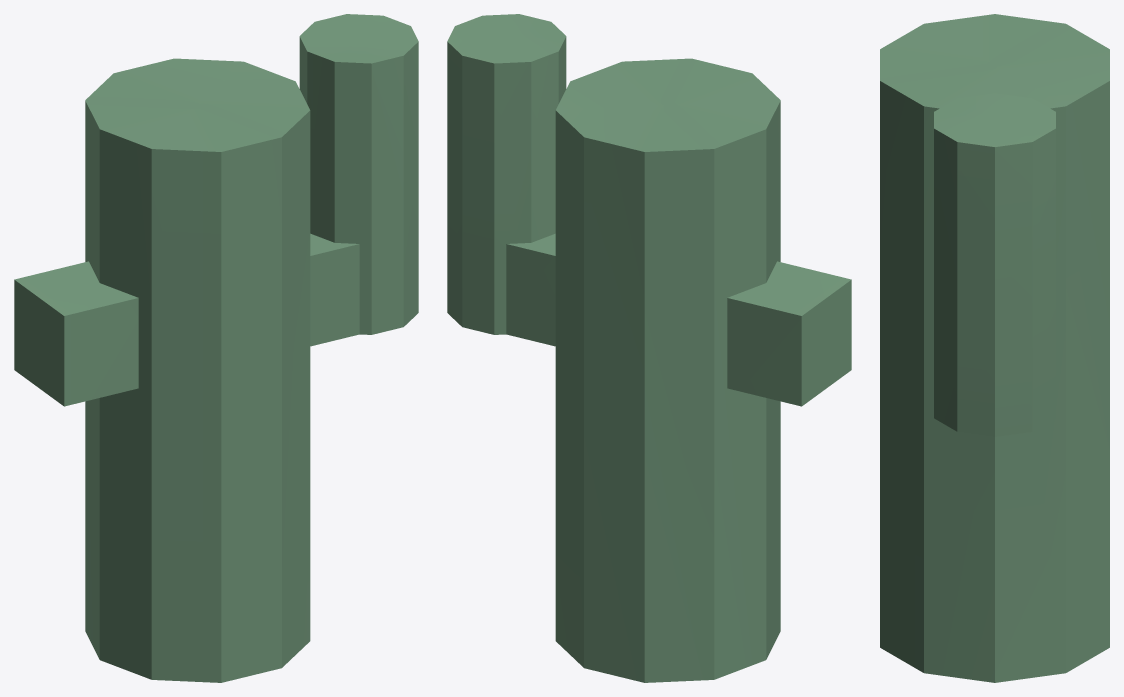
File: cactus-01.glb
3 views of the same model, side by side, from view 1: azimuth 30°, elevation 25°; view 2: azimuth 150°, elevation 25°; view 3: azimuth 270°, elevation 25° (orthographic). The views are drawn at different scales.
Parts seen in each view (by area): view 1: world; view 2: world; view 3: world.
Boxes of the visible parts, box(x1,y1,x2,y2) form: world: box(14, 14, 418, 682); world: box(447, 14, 851, 682); world: box(880, 14, 1109, 682).
Size of the model in its own units: 0.645 by 0.925 by 0.3234.
